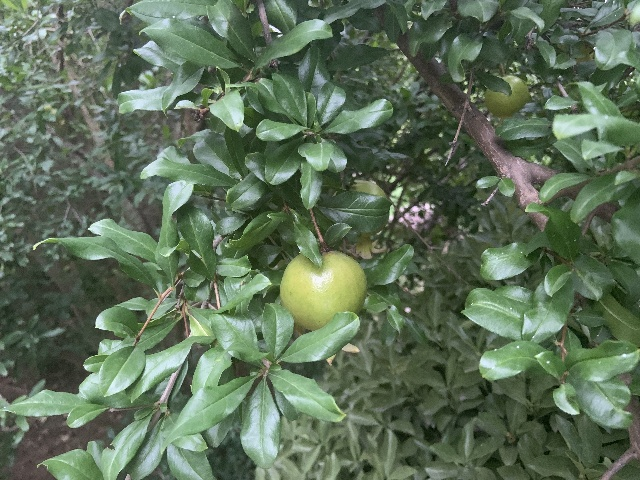mid-growth: (279, 249, 367, 366), (332, 180, 389, 260), (484, 75, 529, 123)
